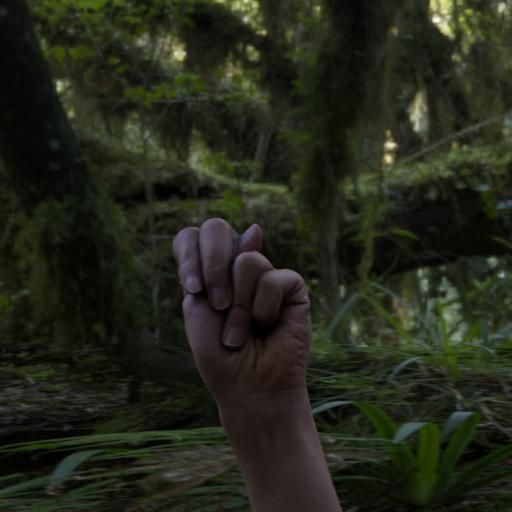N: (168, 208, 314, 401)
